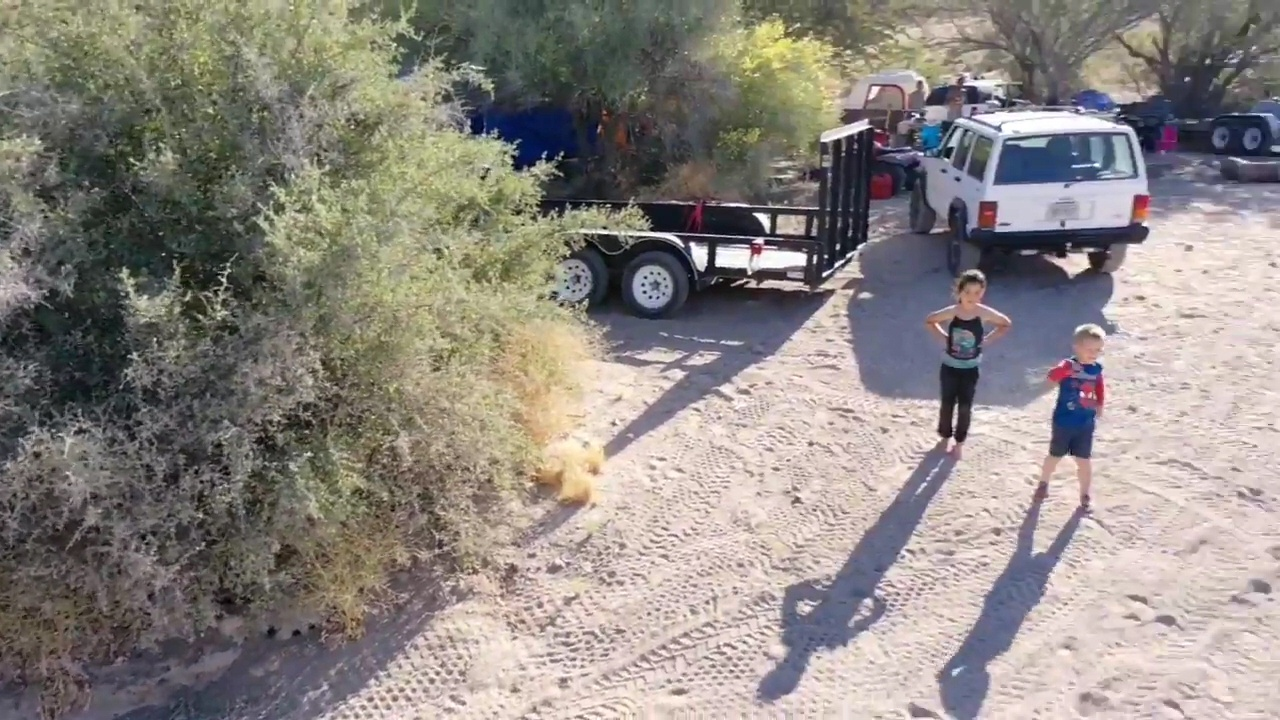araba: (913, 104, 1154, 274)
insan: (924, 270, 1010, 460), (1031, 319, 1115, 512), (942, 69, 974, 136), (903, 78, 934, 123)
